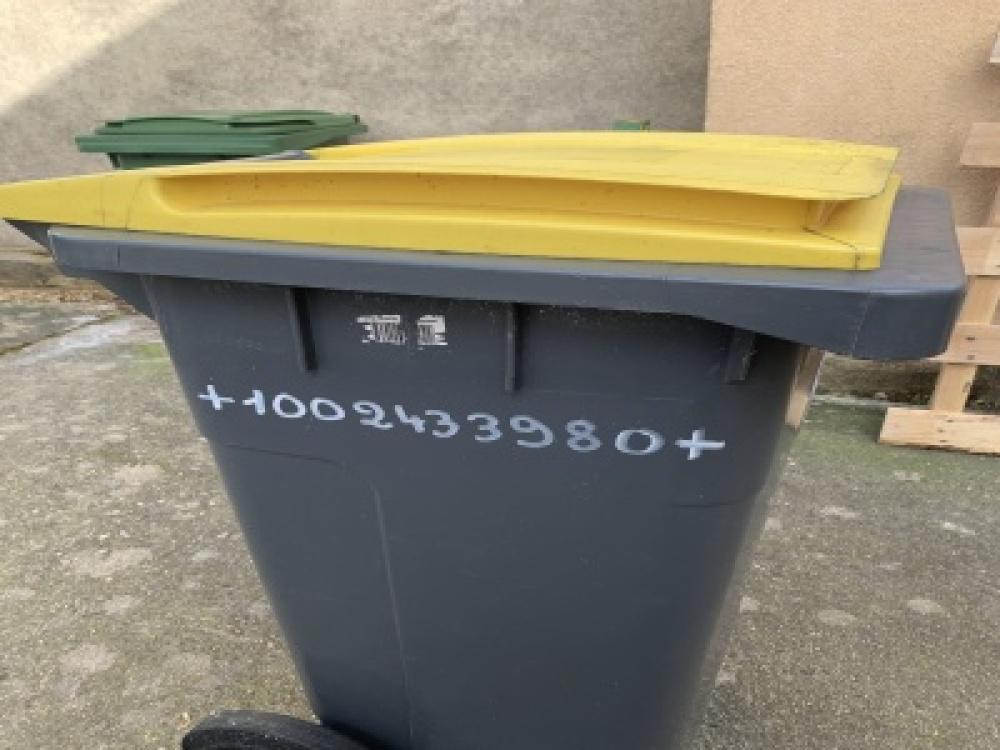+: (671, 423, 726, 463), (190, 384, 237, 413)
0: (615, 426, 665, 458), (271, 392, 308, 422), (309, 396, 347, 423)
1: (241, 385, 267, 414)
2: (351, 399, 393, 433)
3: (424, 408, 460, 441), (466, 412, 502, 444)
4: (394, 404, 426, 433)
8: (566, 416, 599, 453)
9: (508, 414, 554, 450)
